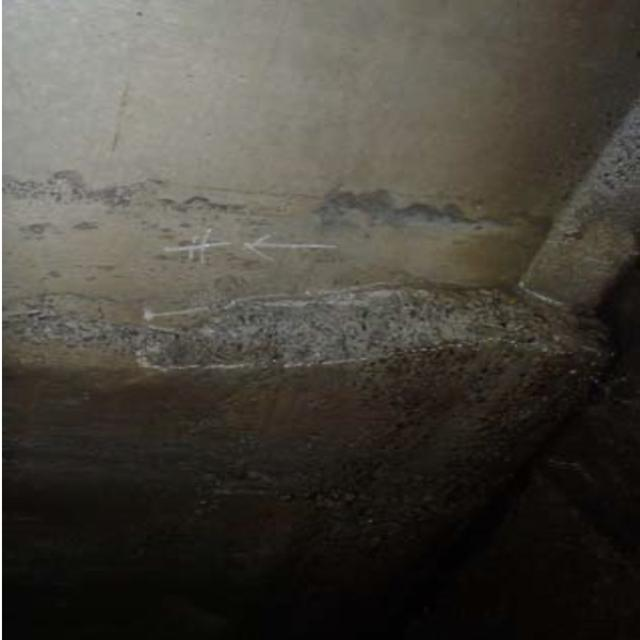spalling: (31, 278, 602, 368)
